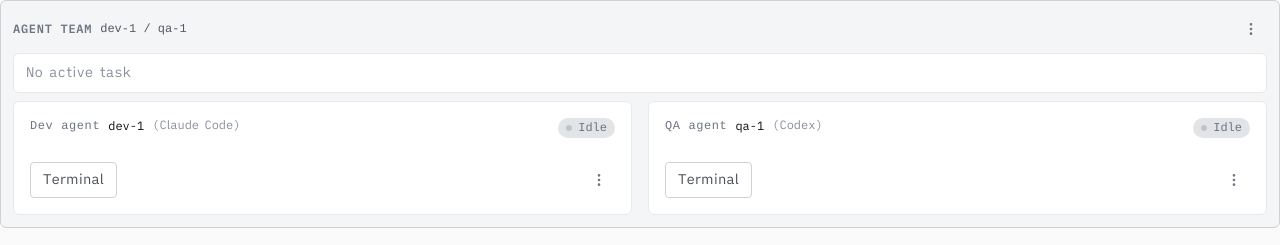
it: AgentTeam actions menu › shows the team identity and a menu with Compact, Clear and Delete
Click the button named "Agent Team dev-1 / qa-1 actions menu" at coordinates (1251, 29), box x1=1235 y1=13 x2=1267 y2=45
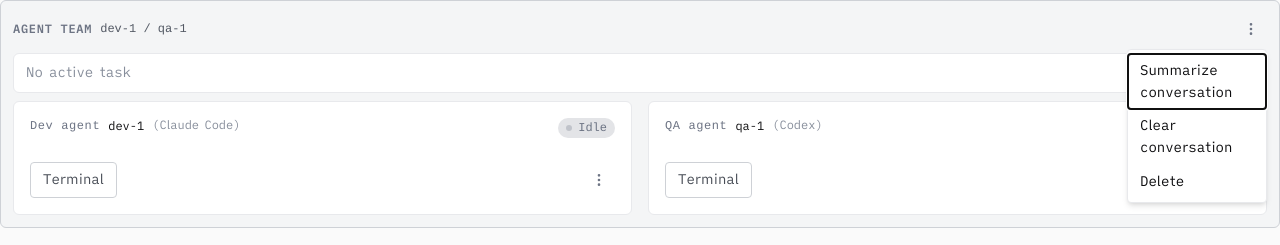
Expected: the number of menu items is 3, x1=1128 y1=54 x2=1266 y2=109; x1=1128 y1=109 x2=1266 y2=165; x1=1128 y1=165 x2=1266 y2=198
